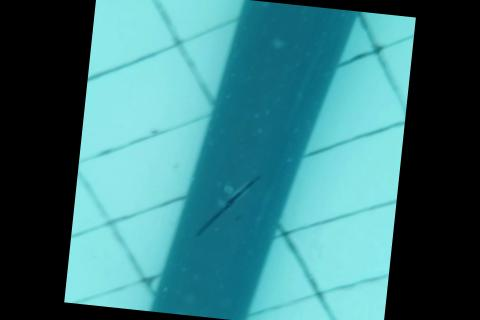keretakan: (195, 165, 262, 243)
